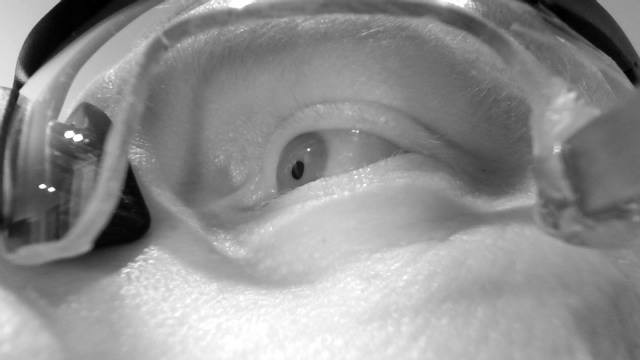pupil: (291, 160, 305, 181)
